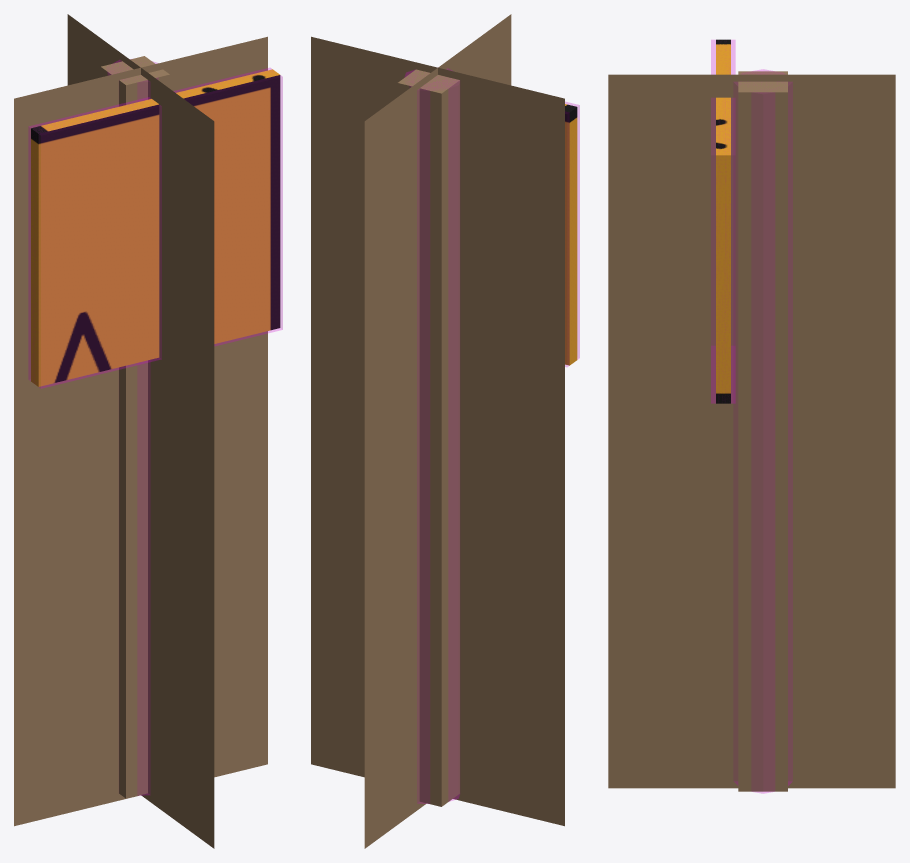
File: arrow_double_left.dae
The picture shows the model from 3 angles, left to right: view 1: azimuth 30°, elevation 25°; view 2: azimuth 150°, elevation 25°; view 3: azimuth 270°, elevation 25°; orthographic projection.
Parts seen in each view (by area): view 1: arrow_double_left_a50, arrow_double_left_a800, Colmesh_sign-1, Colmesh_post-1, arrow_double_left_a200; view 2: arrow_double_left_a50, arrow_double_left_a800, Colmesh_post-1, arrow_double_left_a200, Colmesh_sign-1; view 3: arrow_double_left_a50, arrow_double_left_a800, Colmesh_post-1, Colmesh_sign-1.
Boxes of the visible parts, box(x1,y1,x2,y2) form: arrow_double_left_a50: box(14, 14, 267, 848); arrow_double_left_a800: box(31, 56, 280, 798); Colmesh_sign-1: box(28, 68, 282, 388); Colmesh_post-1: box(108, 60, 157, 795); arrow_double_left_a200: box(119, 61, 169, 796); arrow_double_left_a50: box(311, 14, 564, 848); arrow_double_left_a800: box(397, 69, 577, 806); Colmesh_post-1: box(405, 68, 459, 803); arrow_double_left_a200: box(413, 71, 459, 805); Colmesh_sign-1: box(565, 102, 579, 366); arrow_double_left_a50: box(608, 74, 895, 788); arrow_double_left_a800: box(716, 39, 787, 791); Colmesh_post-1: box(734, 69, 792, 793); Colmesh_sign-1: box(711, 40, 735, 403).
Bounding box in the file's own units: 0.5775 × 0.5775 × 1.58.
3 materials, 1 textured.
